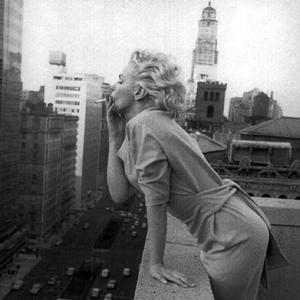cigarette: (93, 98, 111, 104)
